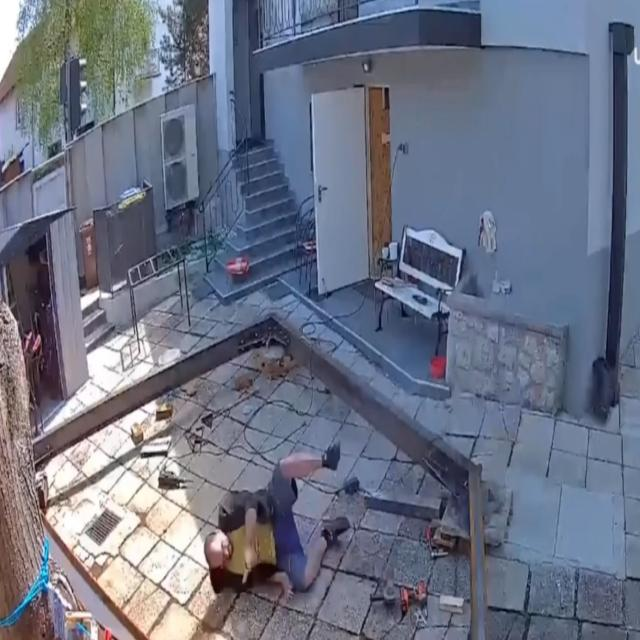fallen: (204, 442, 349, 600)
